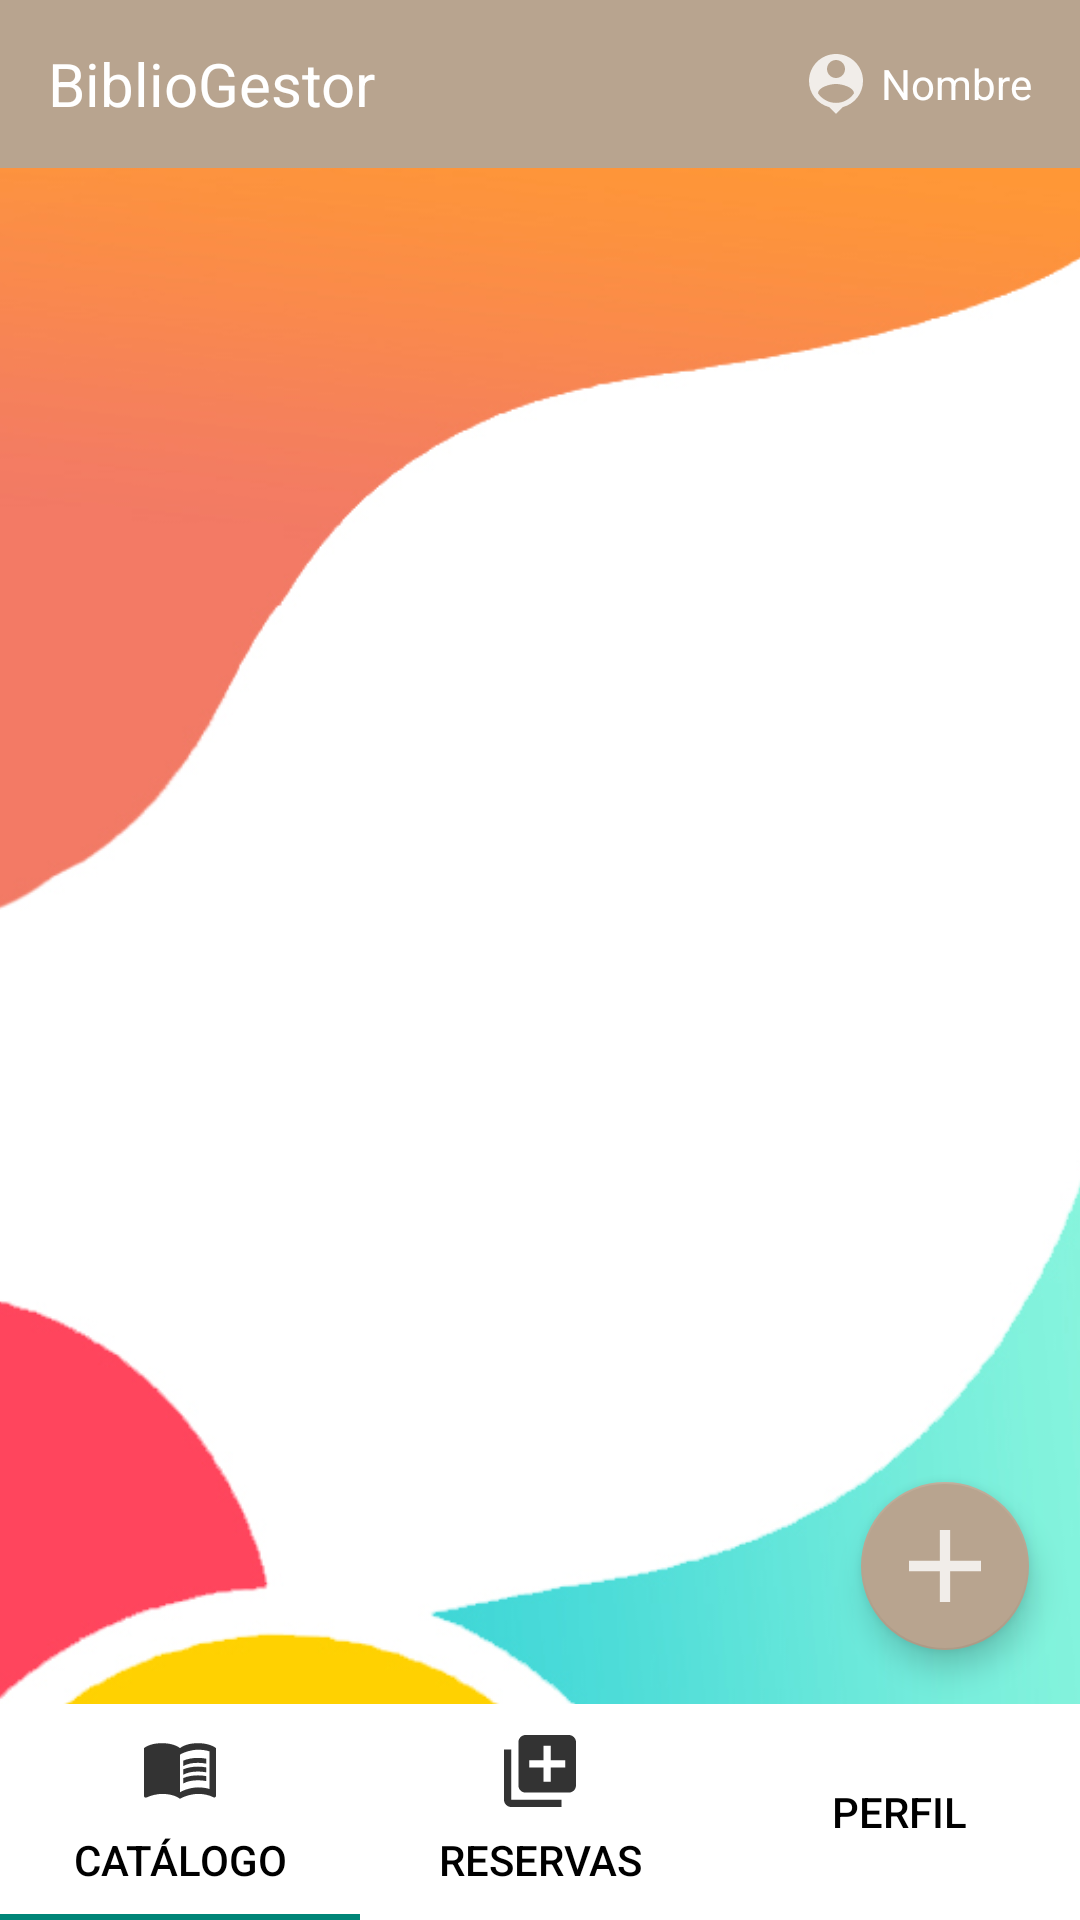

Locate icon controls on the screen. Image size 1080×1920, boxes as (x1=x1, y1=y1, x2=x2, y2=y2).
add: (x1=861, y1=1482, x2=1029, y2=1650)
